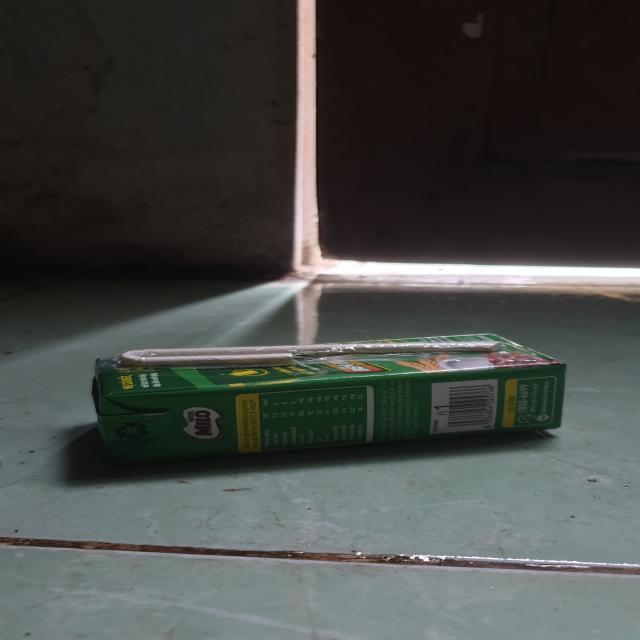Milo: (100, 328, 563, 461)
